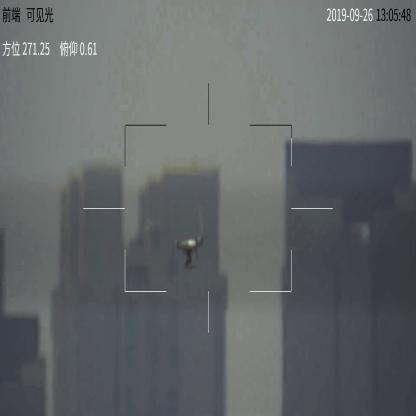uav: (172, 234, 207, 267)
